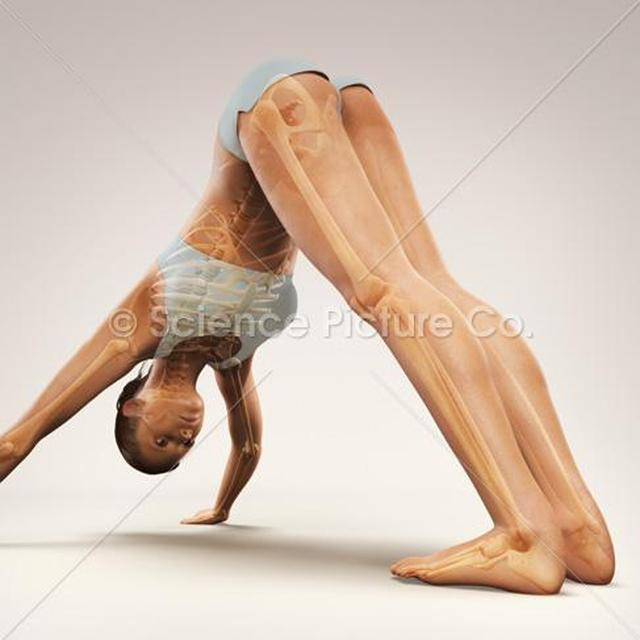Downward-Facing_Dog: (1, 55, 618, 608)
